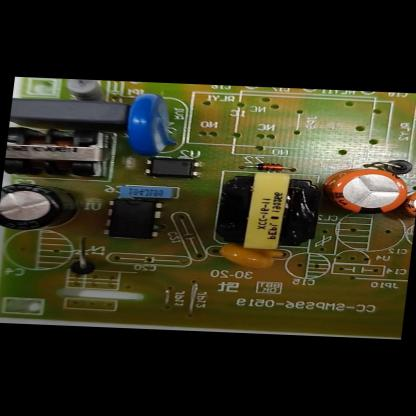Cap1: (321, 166, 412, 216)
Cap2: (404, 188, 416, 219)
Cap3: (0, 183, 84, 231)
MOSFET: (101, 197, 163, 240)
Mov: (122, 91, 183, 153)
Resistor: (63, 79, 108, 102)
Transformer: (218, 169, 324, 248), (4, 126, 109, 178)
